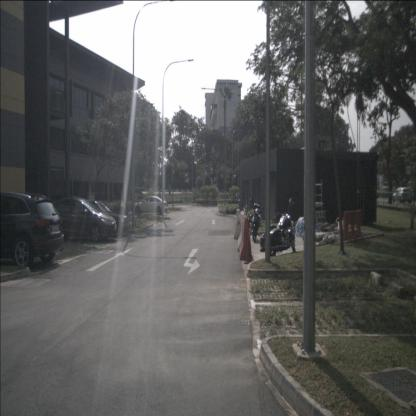barrier: (342, 208, 363, 241), (239, 216, 252, 260), (237, 215, 249, 252), (237, 210, 245, 251), (234, 209, 240, 239)
cone: (244, 233, 253, 264)
